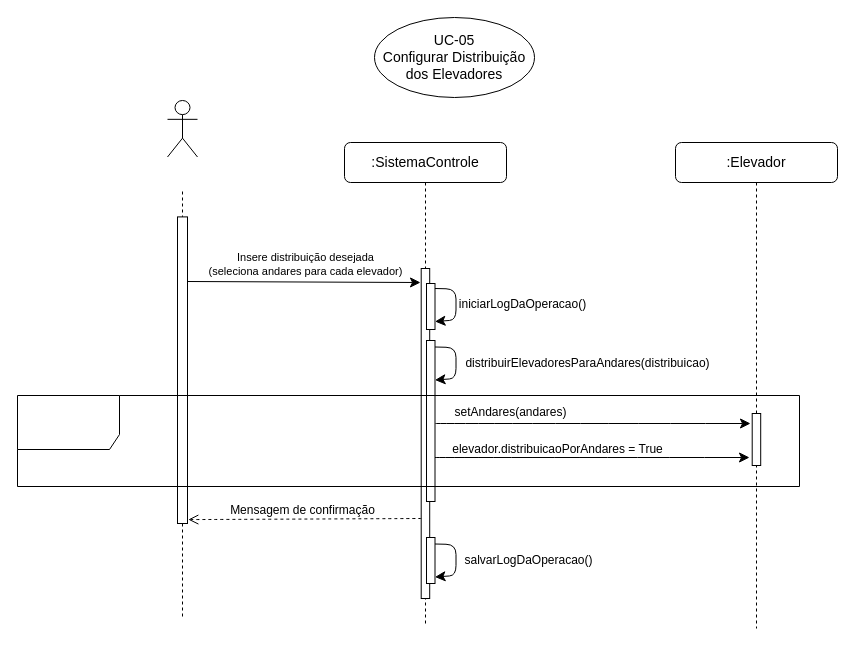
Image size: 855x646. Some labels were removed from this diagram. The shapes that lost their labels are listed below. From the top down, each one's centre as x and y in pixels, then its label:
At pixel 182 128: "Usuário (Admin ou Master )".
At pixel 408 440: "loop n (quantidade de elevadores)".
